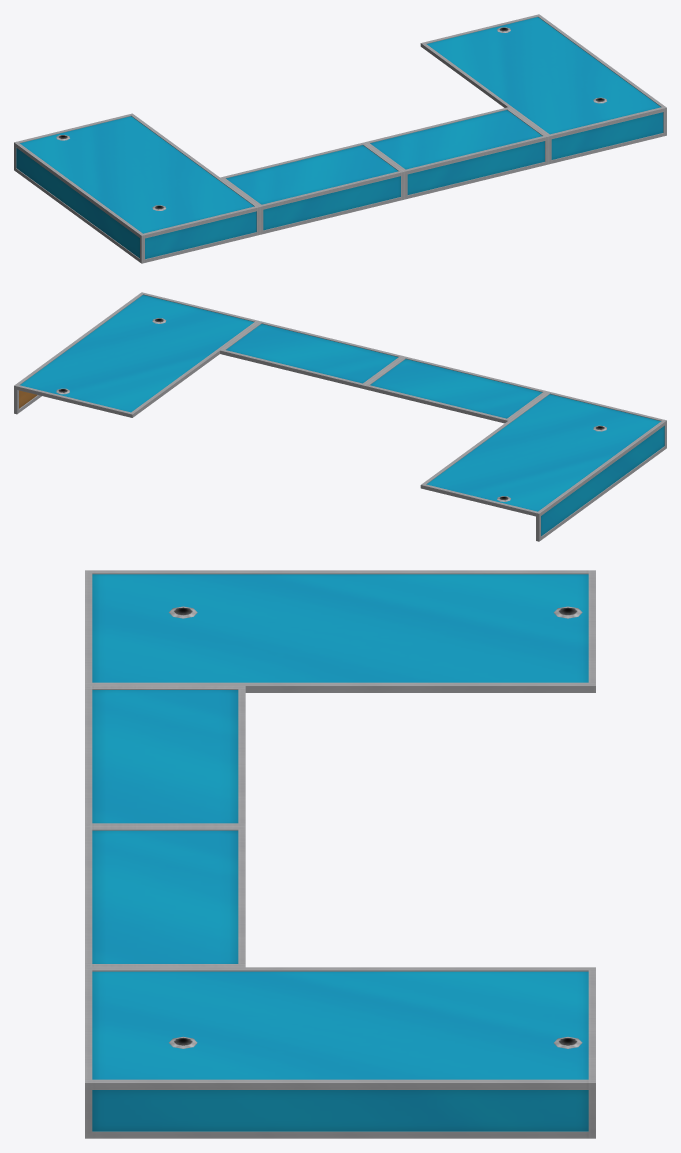
File: jsf_4P_s02_c02_t03_DX.fbx
The picture shows the model from 3 angles, top to bottom: view 1: azimuth 30°, elevation 25°; view 2: azimuth 150°, elevation 25°; view 3: azimuth 270°, elevation 25°; orthographic projection. The views are drawn at different scales.
Visible parts, largest first — view 1: jsf_4P_s02_c02_t03_DX; view 2: jsf_4P_s02_c02_t03_DX; view 3: jsf_4P_s02_c02_t03_DX.
Part boxes in pixels (bbox=[...]): jsf_4P_s02_c02_t03_DX: bbox=[14, 14, 666, 263]; jsf_4P_s02_c02_t03_DX: bbox=[14, 292, 666, 541]; jsf_4P_s02_c02_t03_DX: bbox=[85, 570, 595, 1138].
Size of the model in its own units: 246 by 12.99 by 104.
